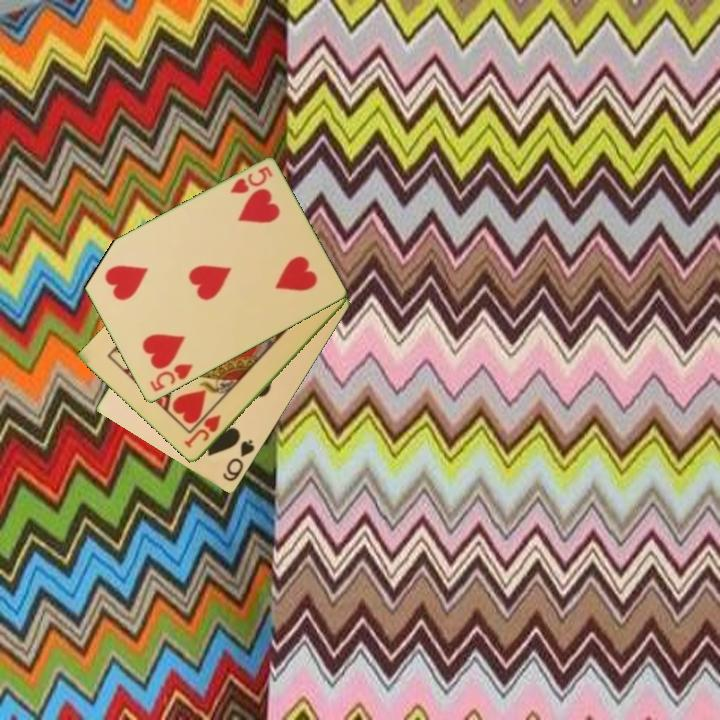5h: (146, 360, 196, 395), (226, 163, 275, 197)
6s: (219, 436, 258, 485)
Jh: (181, 411, 224, 451)
